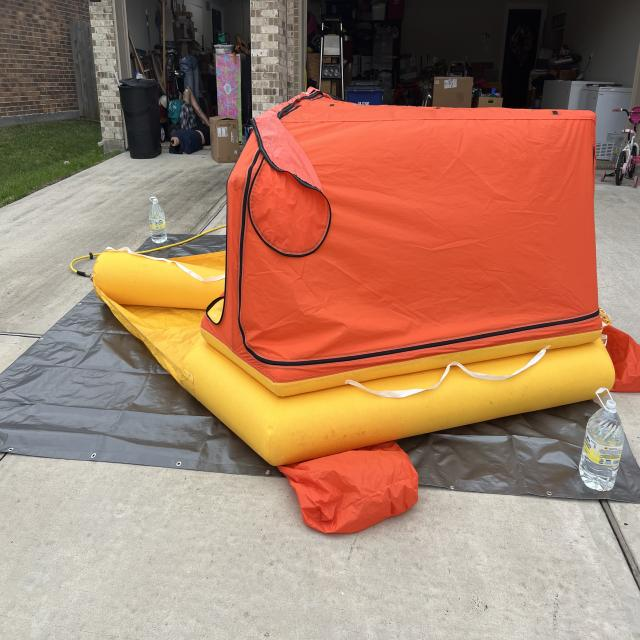Multi-person_life_raft: (91, 85, 640, 534)
